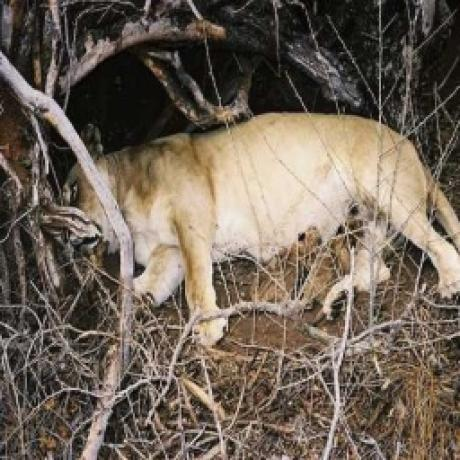Lion: (58, 110, 460, 337)
